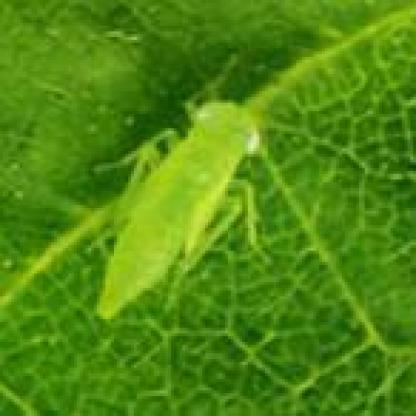Green-Leafhopper: (83, 52, 278, 330)
